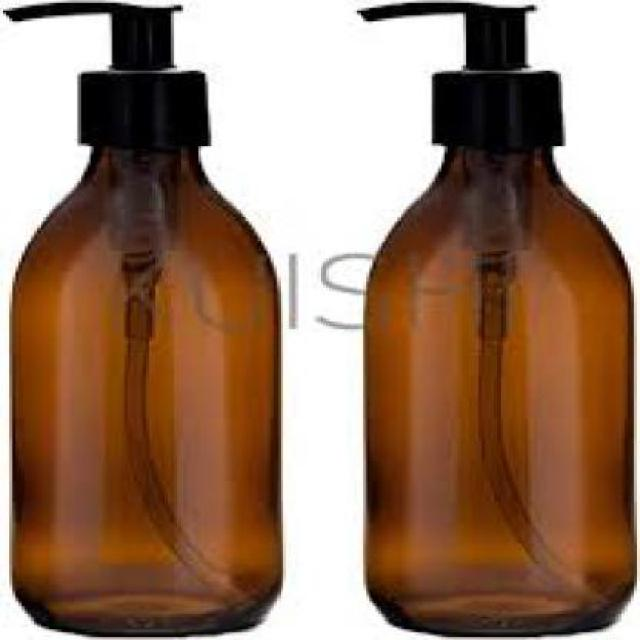kaca: (360, 141, 637, 637), (6, 144, 280, 638)
